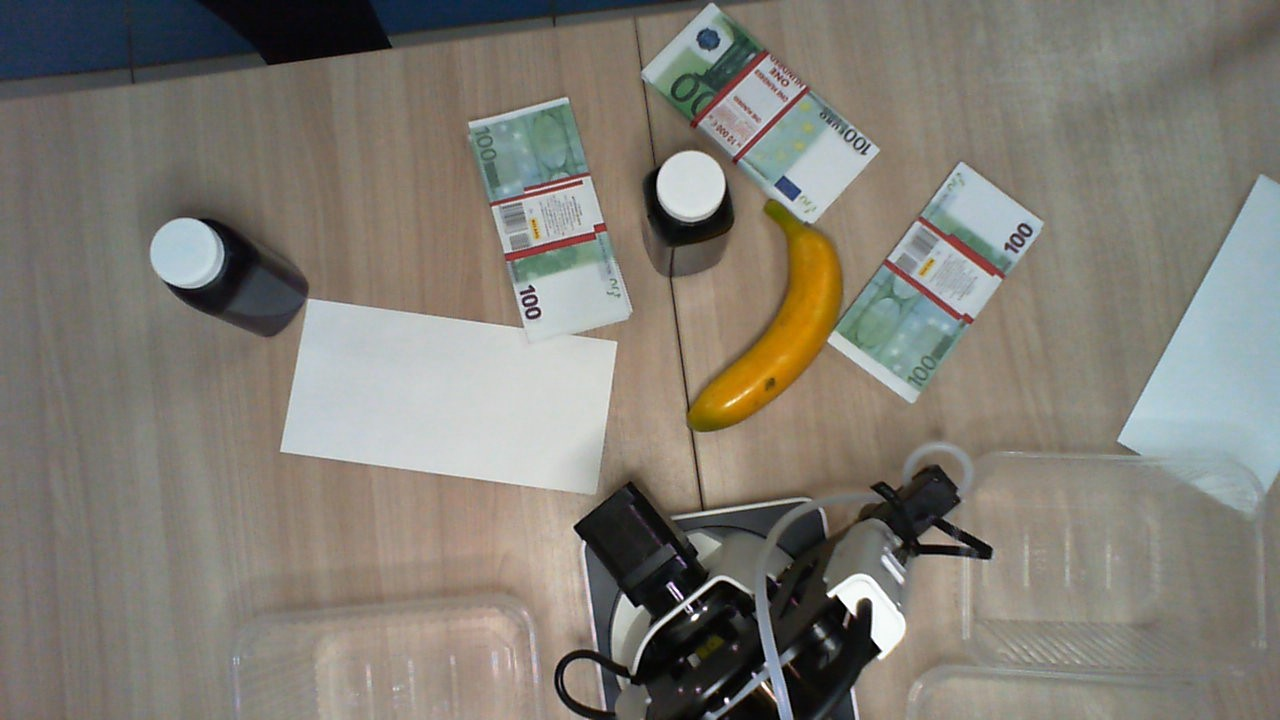banana: (686, 198, 847, 433)
bottle: (147, 213, 248, 310), (641, 152, 735, 244)
convert: (280, 297, 621, 496), (1117, 175, 1280, 518)
money: (829, 159, 1048, 407), (641, 4, 883, 220), (463, 94, 632, 341)
